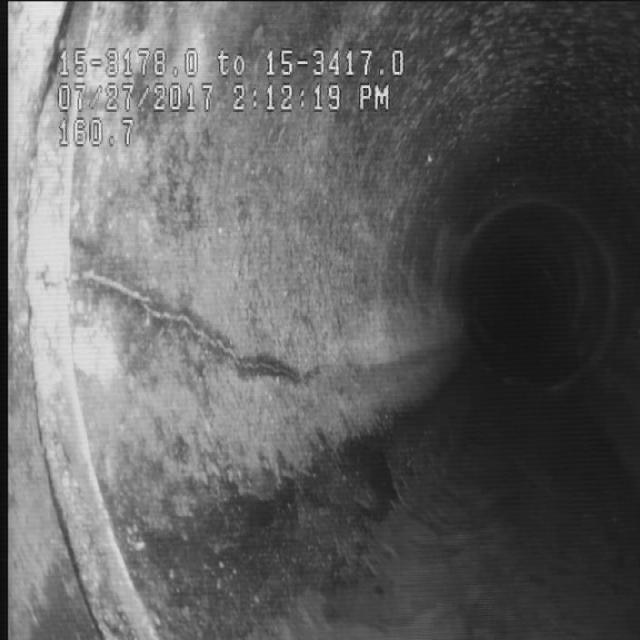Crack: (76, 225, 317, 403)
